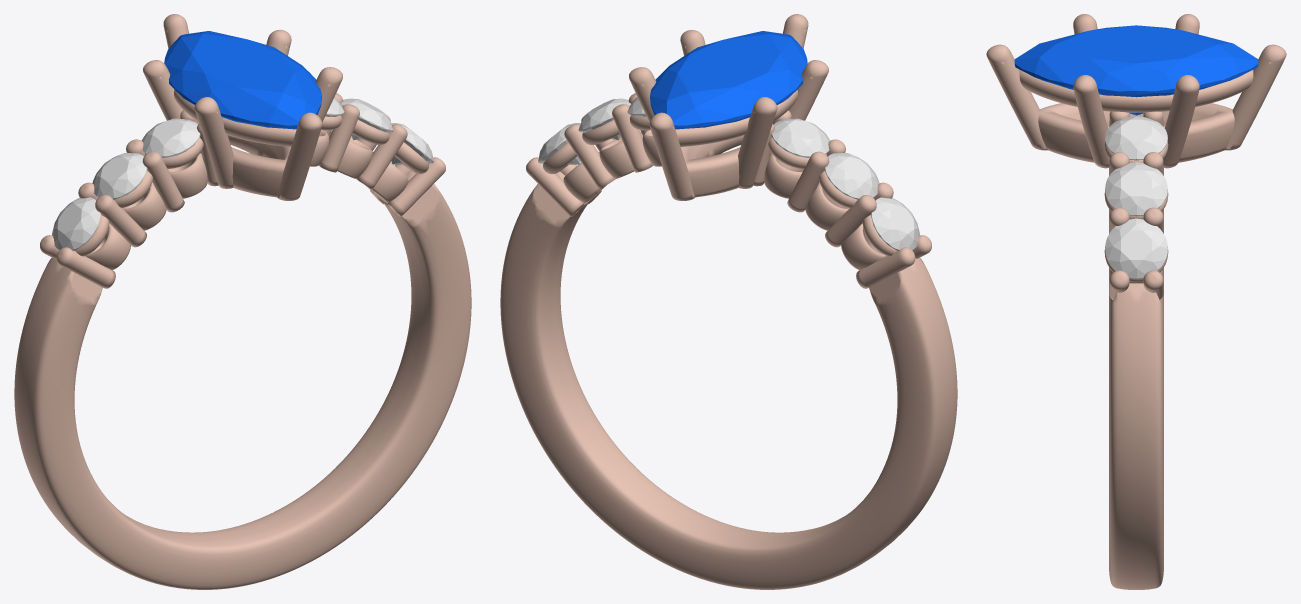
The model's file is bluesapphire-marquise-rosegold-6prong-straightband-7stone.glb.
3 views of the same model, side by side, from view 1: azimuth 30°, elevation 25°; view 2: azimuth 150°, elevation 25°; view 3: azimuth 270°, elevation 25° (orthographic).
Visible parts, largest first — view 1: metal.001, stone, dia, dia.003, dia.004, dia.006, dia.005; view 2: metal.001, stone, dia, dia.003, dia.004, dia.006, dia.005; view 3: metal.001, stone, dia.005, dia.006, dia.007.
Boxes of the visible parts, x1=… form: metal.001: x1=14, y1=14, x2=471, y2=589; stone: x1=164, y1=31, x2=321, y2=129; dia: x1=52, y1=197, x2=100, y2=250; dia.003: x1=92, y1=153, x2=147, y2=199; dia.004: x1=141, y1=118, x2=200, y2=157; dia.006: x1=341, y1=98, x2=393, y2=140; dia.005: x1=391, y1=123, x2=433, y2=164; metal.001: x1=500, y1=14, x2=957, y2=589; stone: x1=650, y1=31, x2=807, y2=129; dia: x1=871, y1=197, x2=919, y2=250; dia.003: x1=824, y1=153, x2=879, y2=199; dia.004: x1=771, y1=118, x2=830, y2=157; dia.006: x1=578, y1=98, x2=630, y2=140; dia.005: x1=538, y1=123, x2=580, y2=164; metal.001: x1=986, y1=14, x2=1286, y2=589; stone: x1=1014, y1=25, x2=1258, y2=115; dia.005: x1=1105, y1=218, x2=1167, y2=278; dia.006: x1=1105, y1=162, x2=1167, y2=216; dia.007: x1=1105, y1=116, x2=1167, y2=160.
Bounding box in the file's own units: 20.5 × 22.93 × 11.96.
